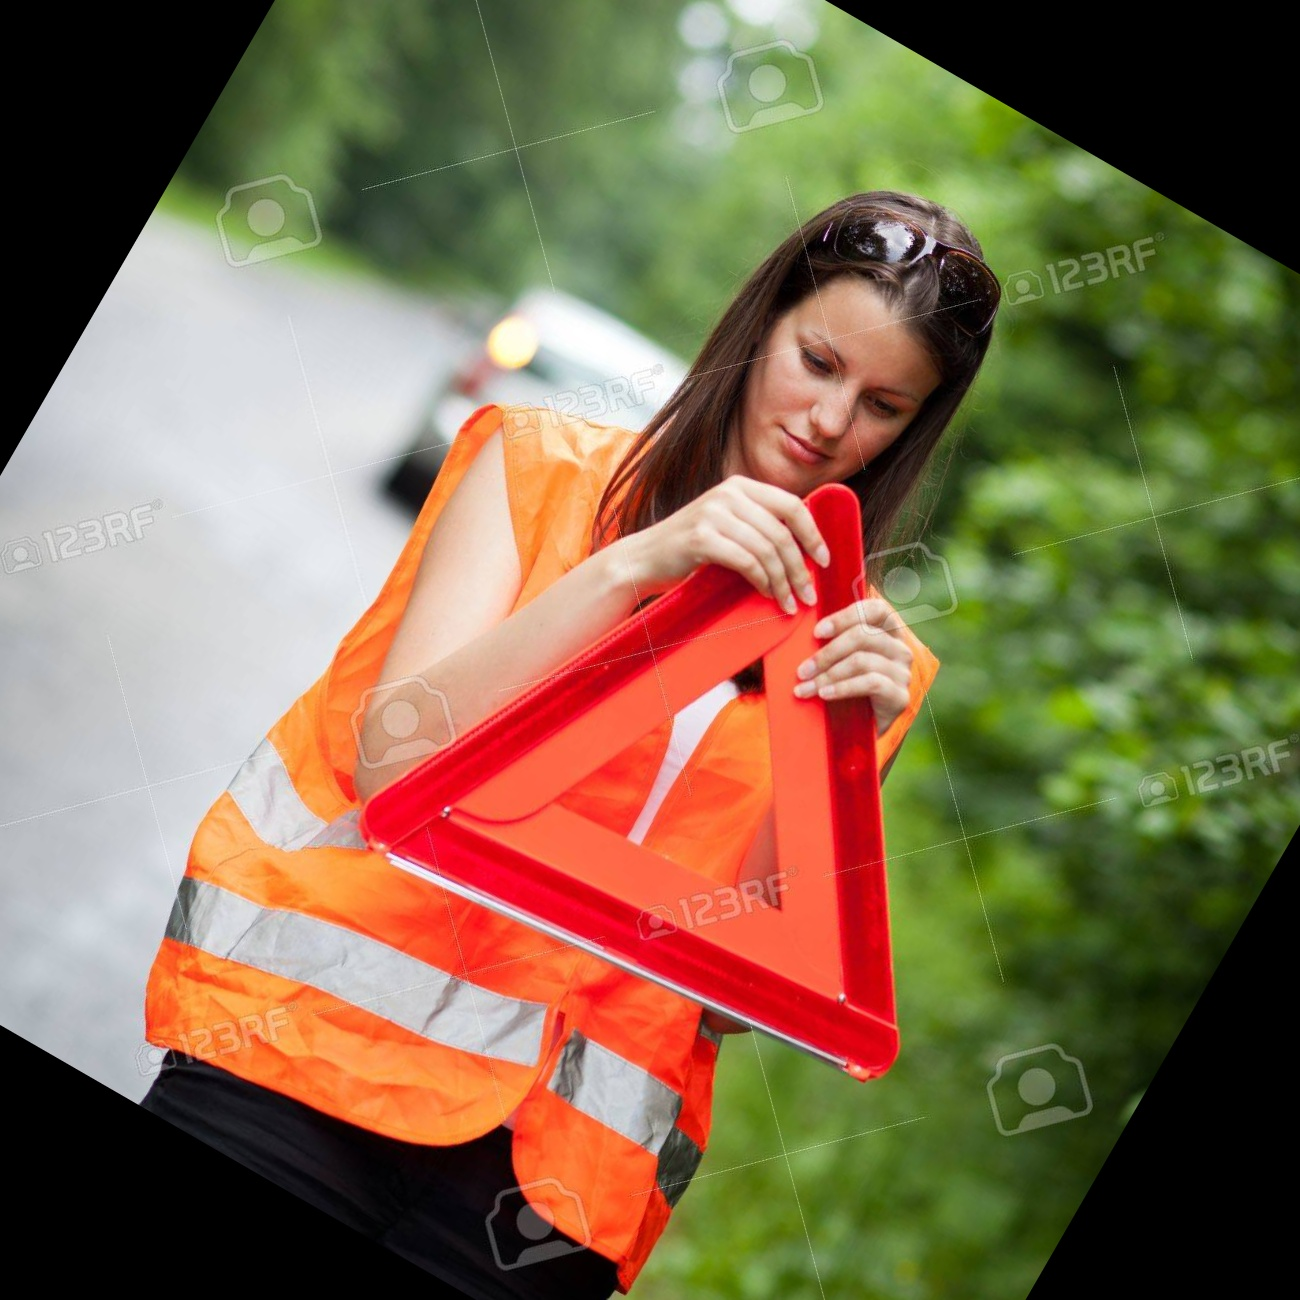NoHardhat: (296, 195, 986, 1146)
